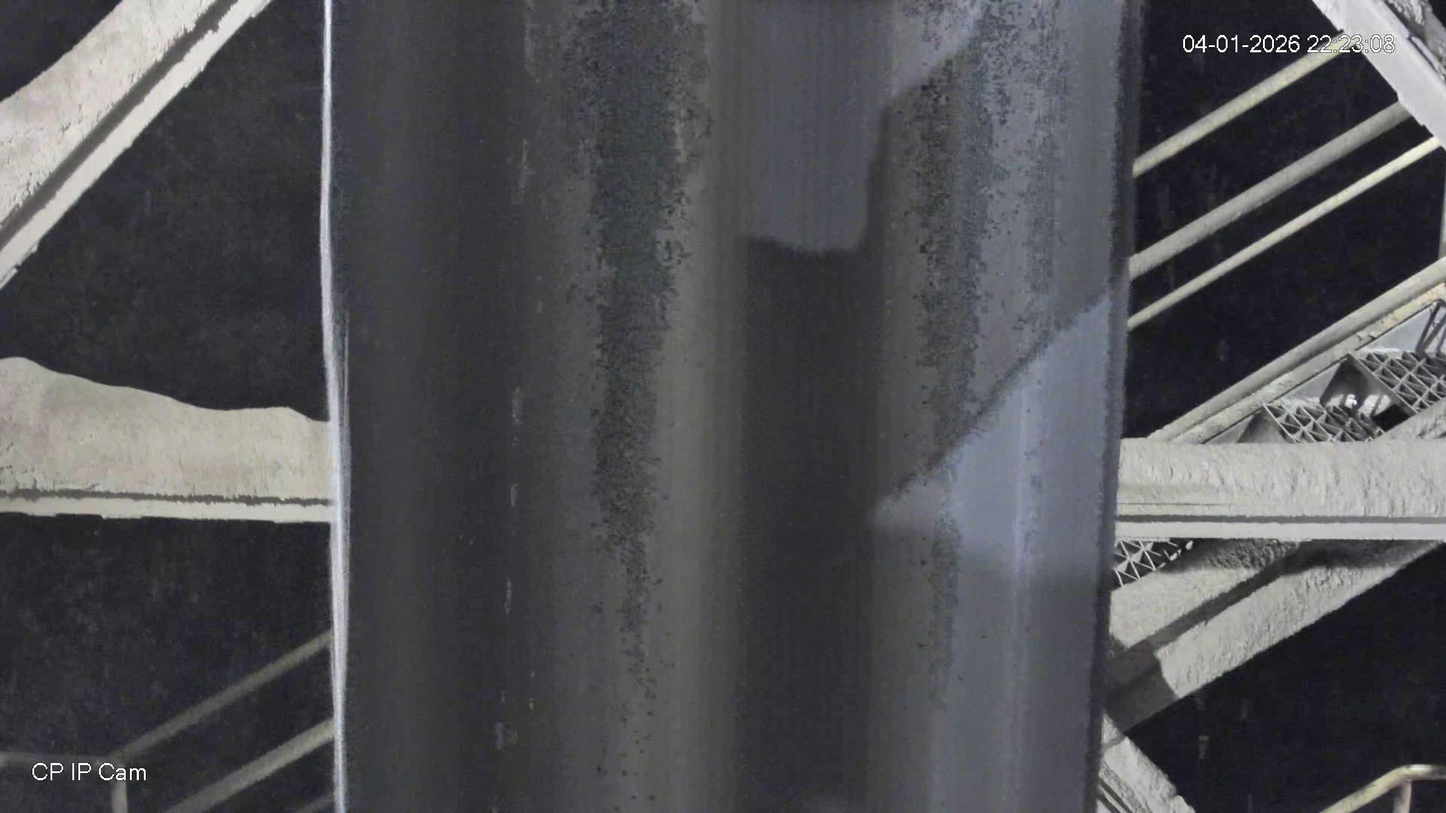belt_roi: (321, 0, 1133, 813)
